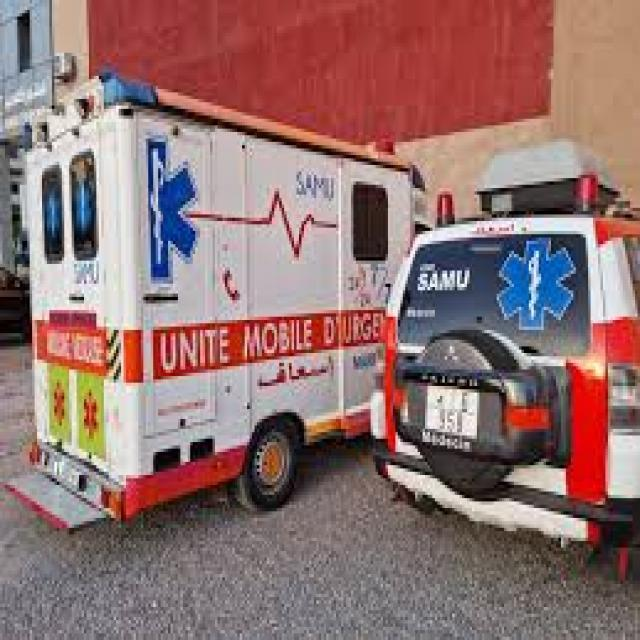ambulance: (9, 96, 388, 544), (392, 142, 633, 544)
